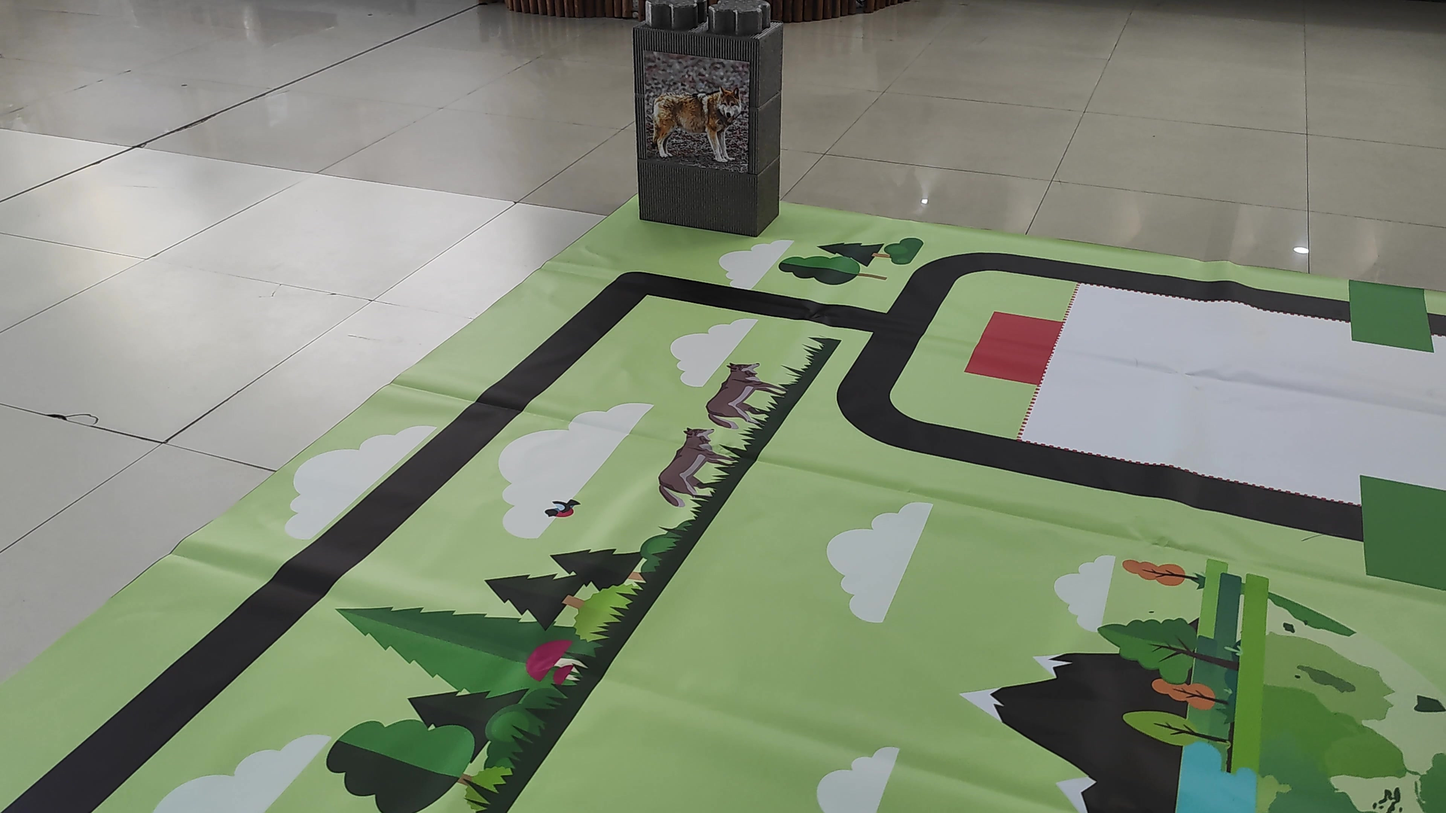wolf: (635, 79, 755, 184)
